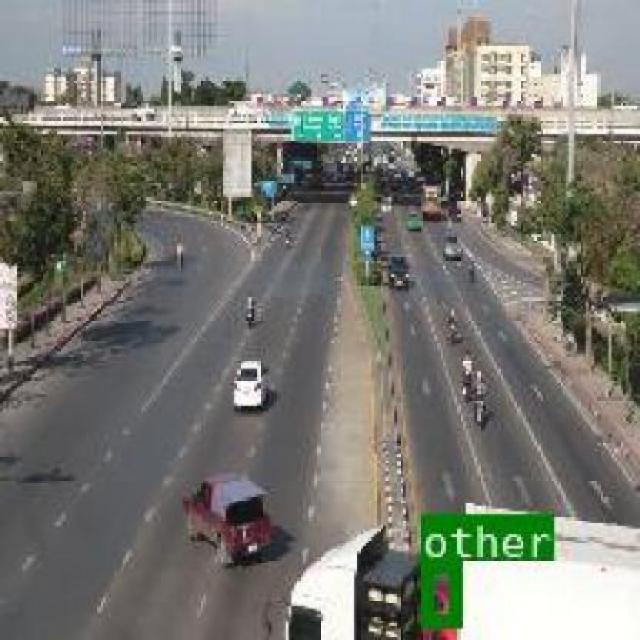other: (420, 558, 458, 626)
